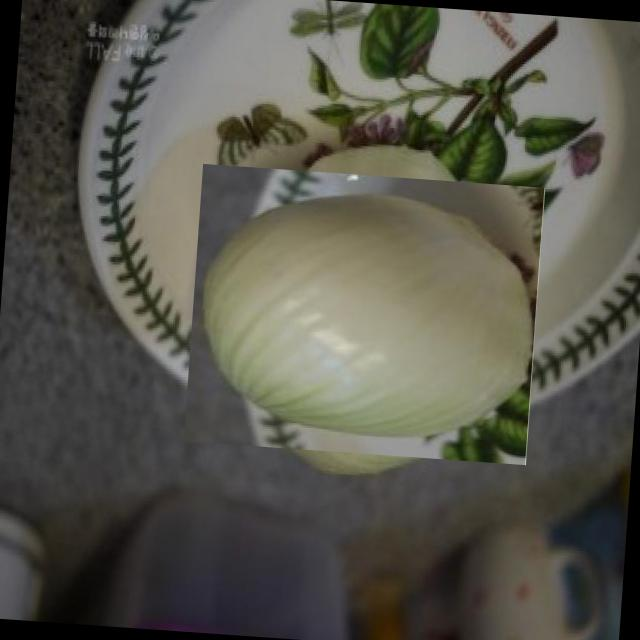Onion: (198, 148, 530, 479)
